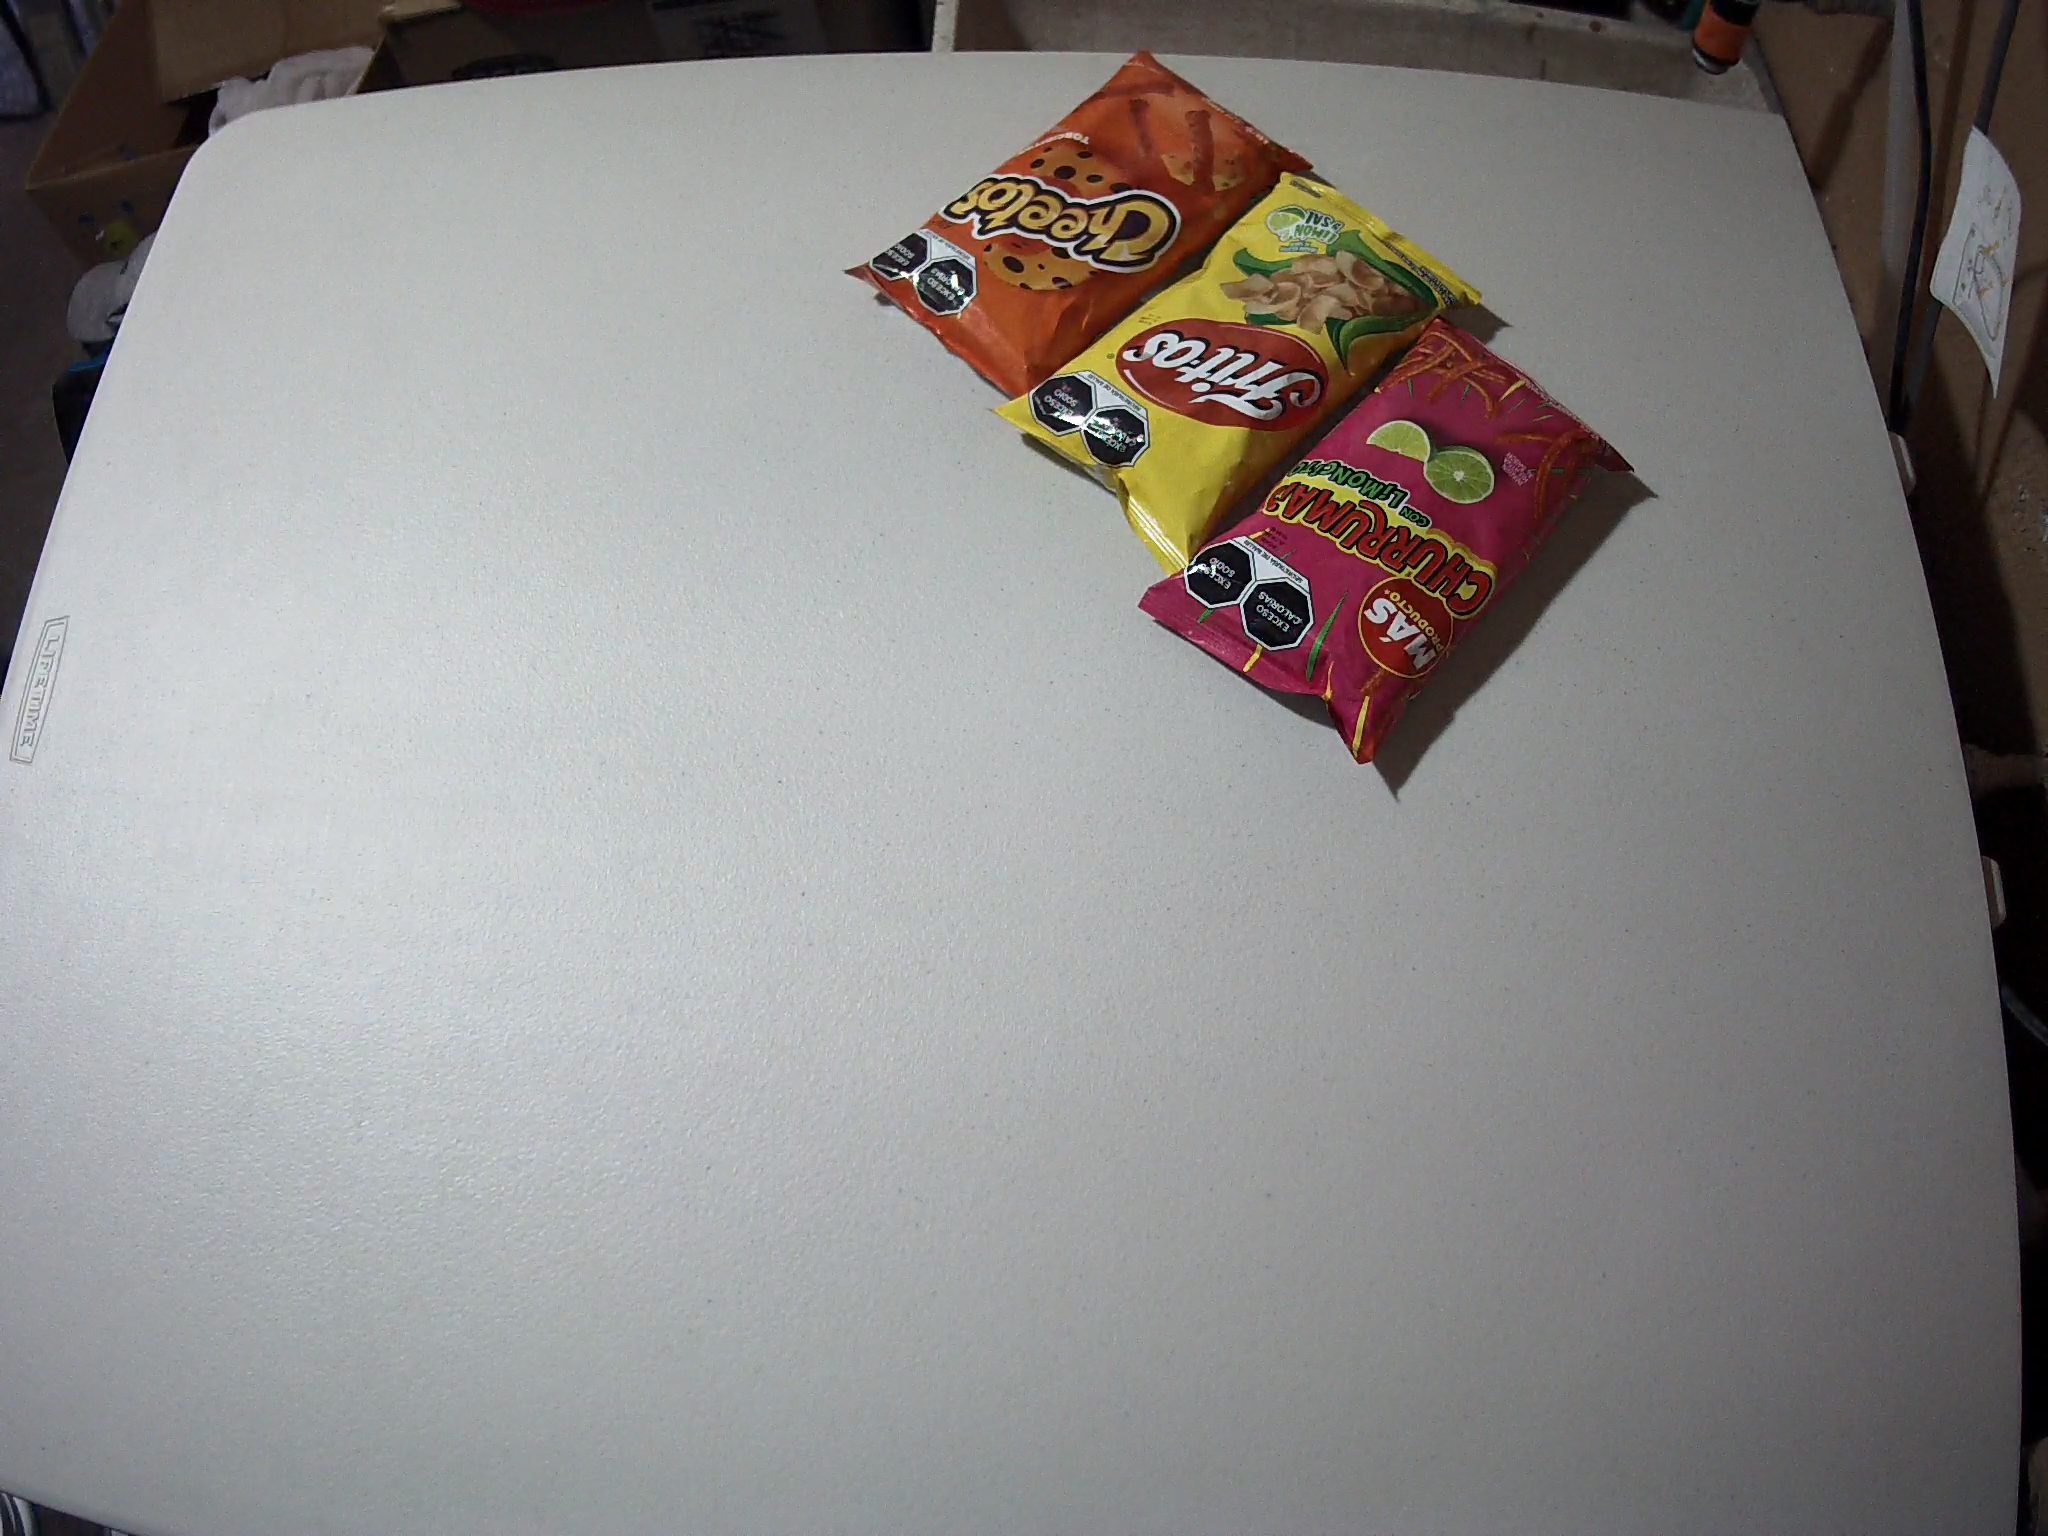CheetosTorciditos_55_F: (847, 52, 1317, 403)
Churrumais_70_F: (1138, 319, 1635, 765)
FritosSalLimon_65_F: (984, 169, 1484, 578)
